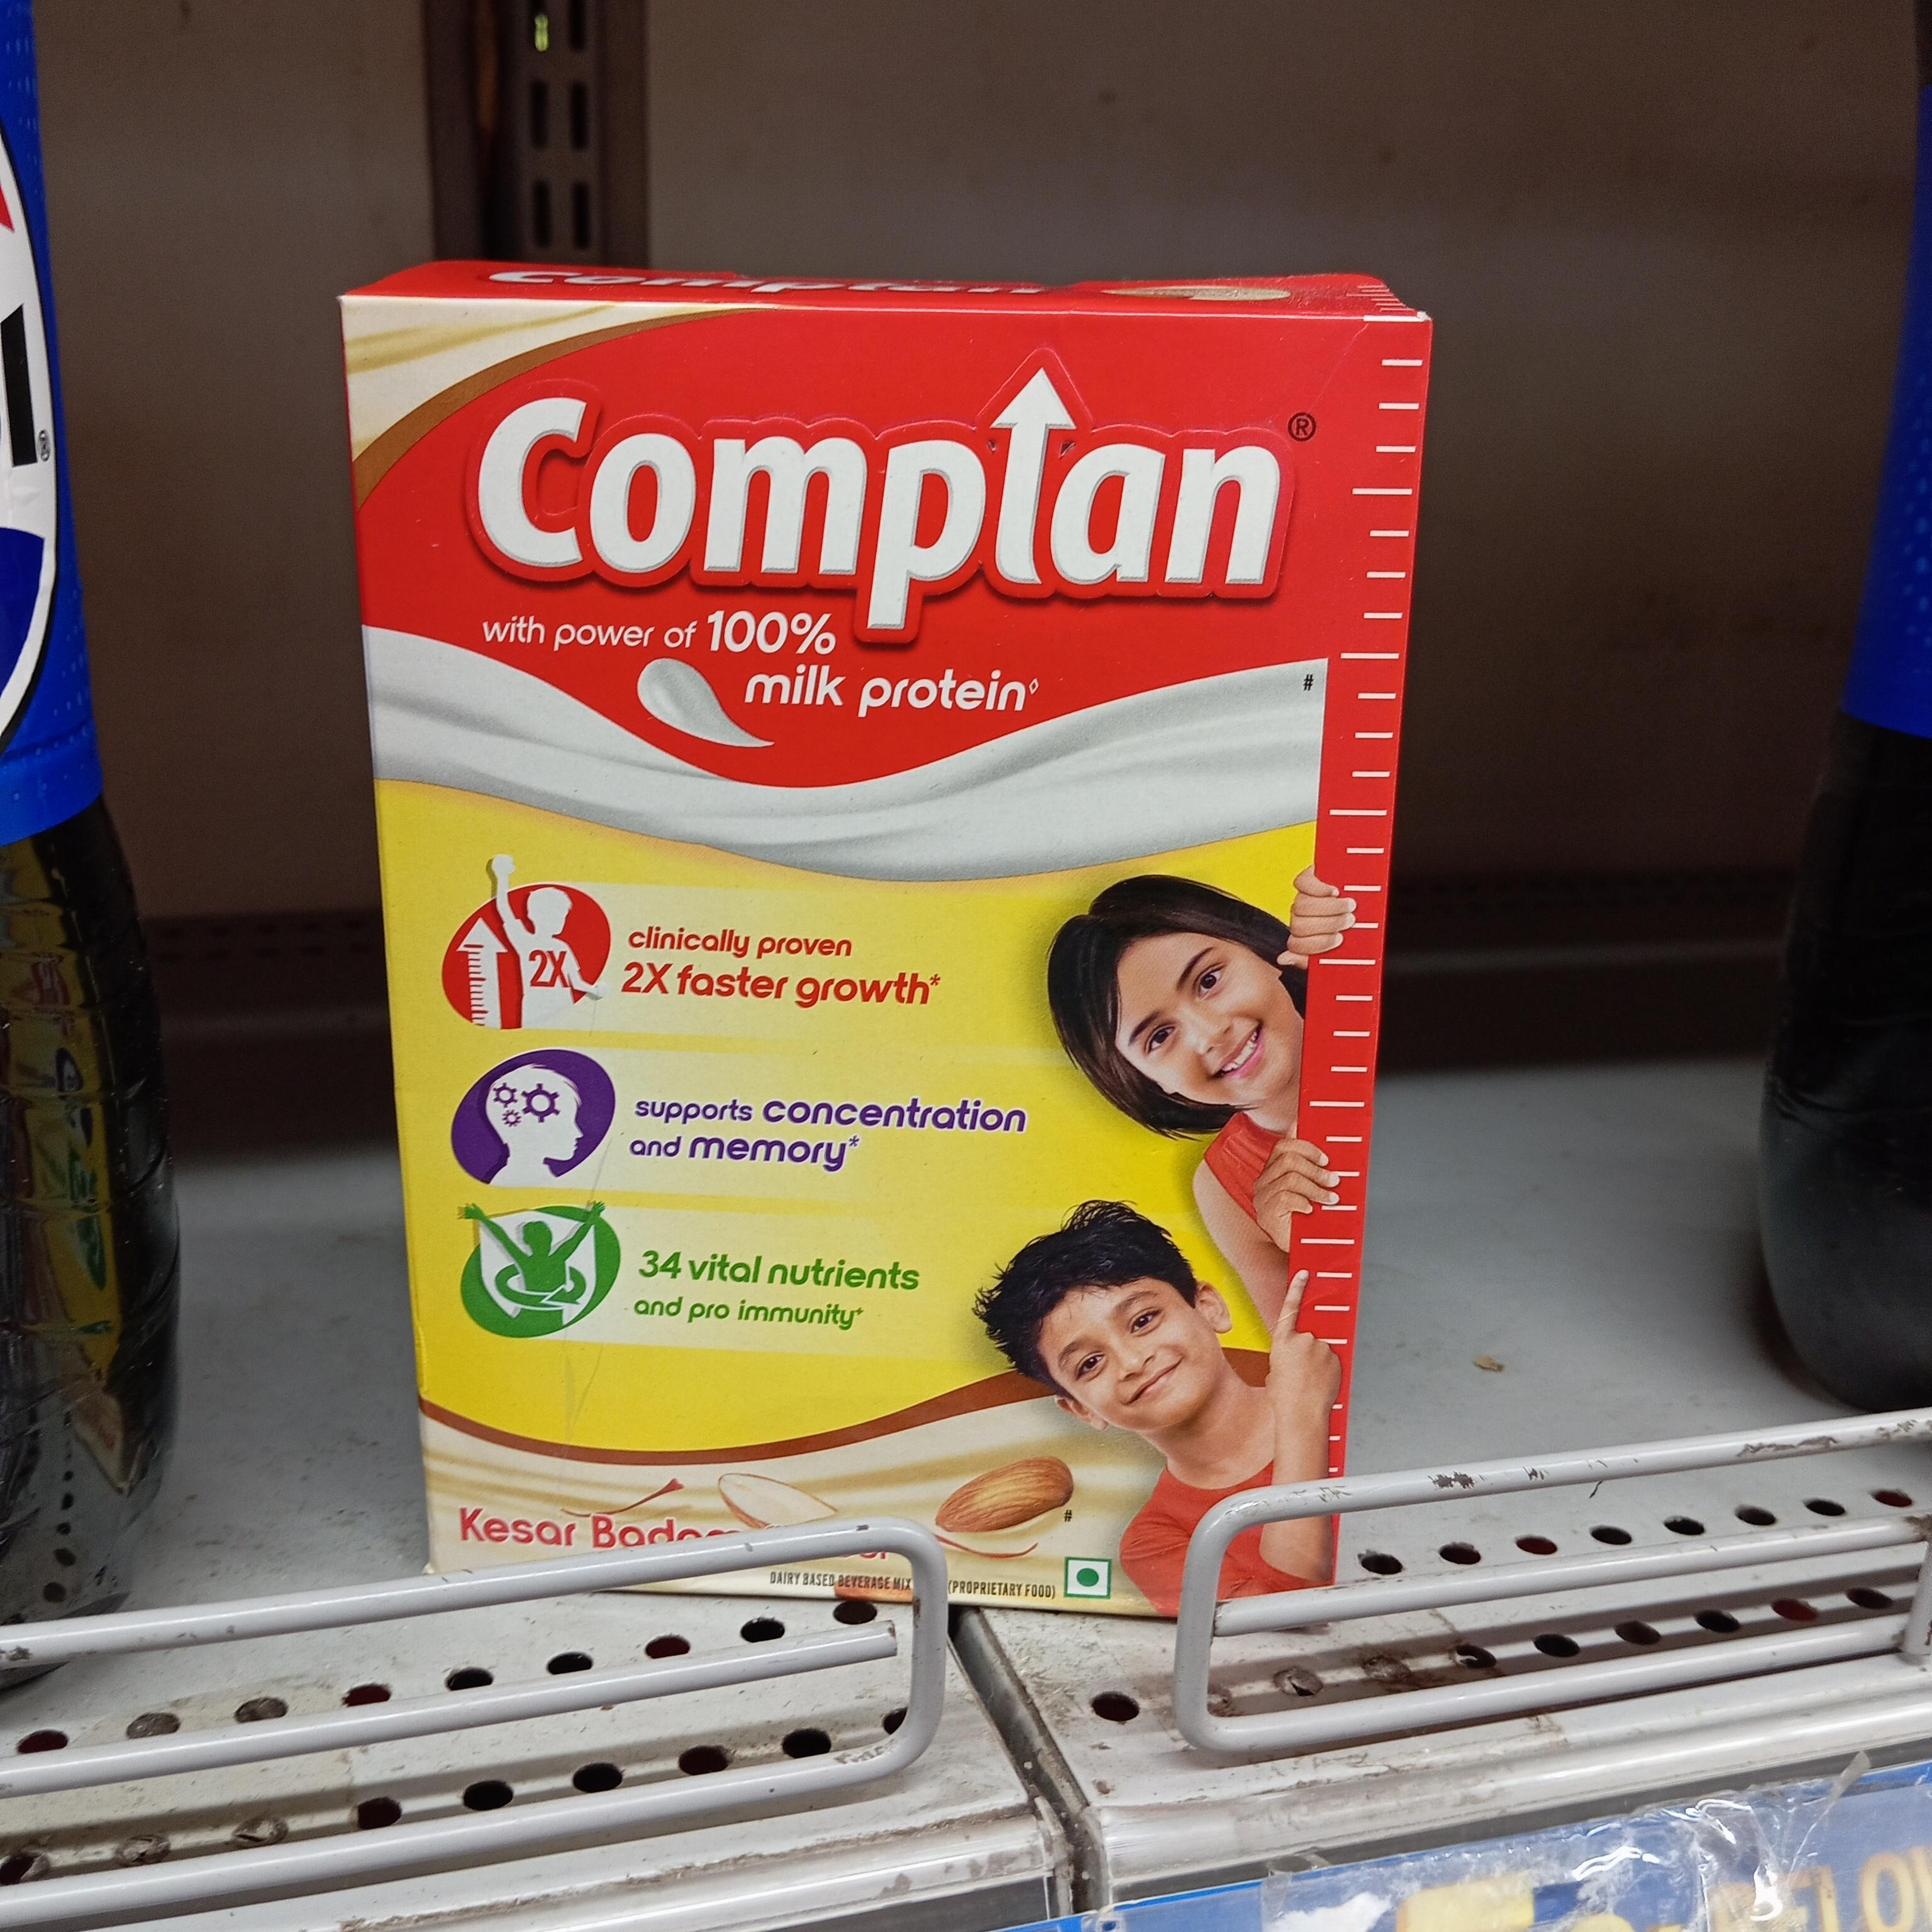COMPLAN_KESAR_BADAM_200_GMS_PACK: (393, 297, 1350, 1621)
